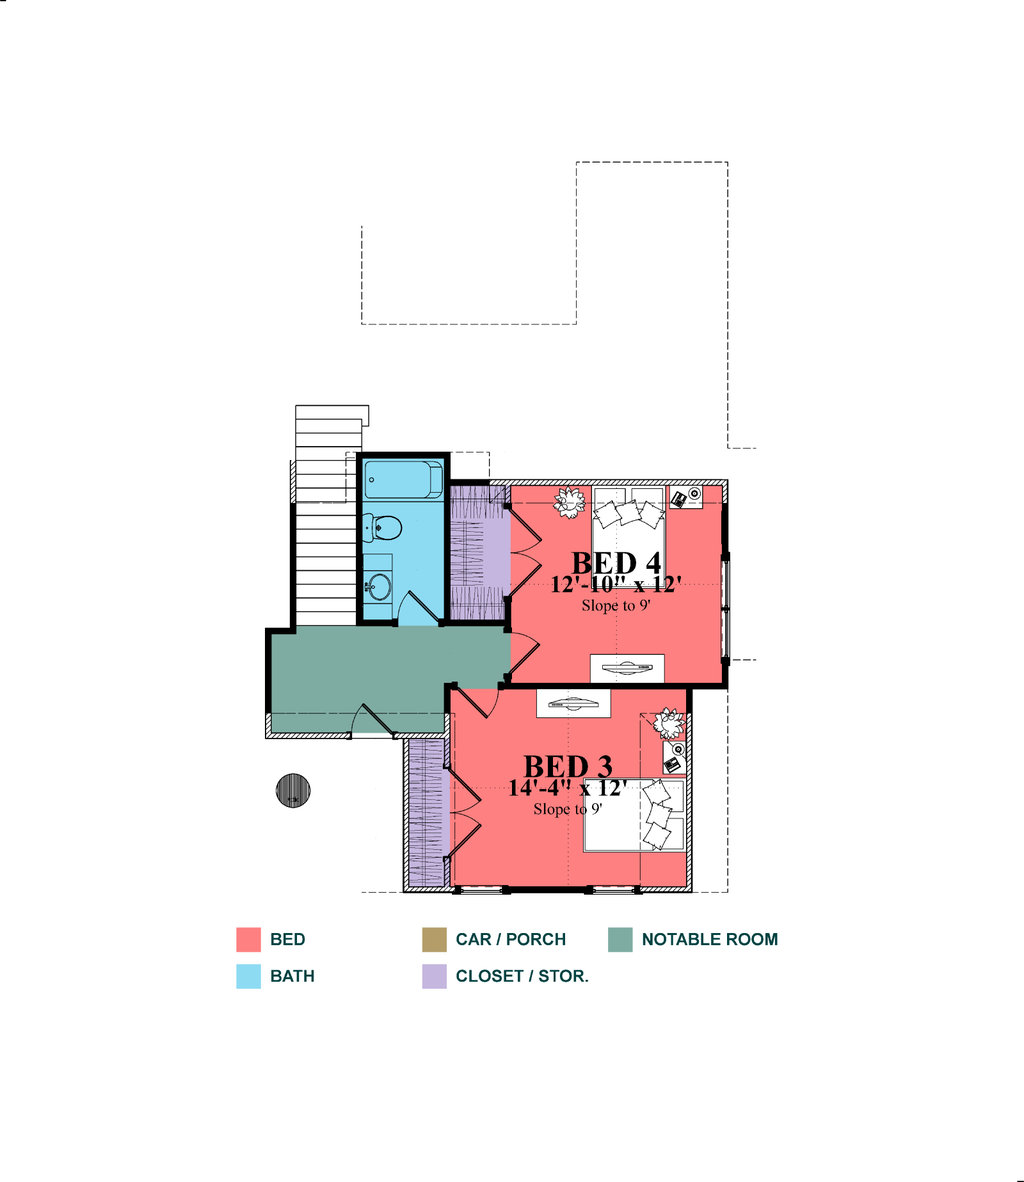bed: (581, 765, 690, 865), (583, 484, 672, 591)
door: (440, 758, 489, 872), (498, 502, 548, 597), (333, 697, 409, 743), (498, 622, 546, 678), (450, 684, 502, 728), (396, 587, 440, 624)
large_sink: (350, 504, 414, 548)
small_sink: (361, 556, 394, 622)
stairs: (270, 376, 364, 626)
tub: (364, 461, 457, 498)
window: (713, 554, 737, 672)
